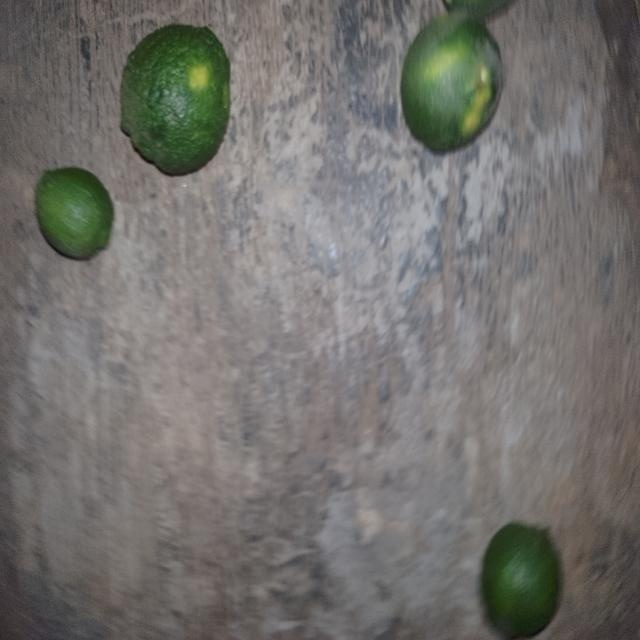agrume: (114, 12, 249, 191), (400, 6, 522, 162), (477, 508, 574, 640), (29, 160, 125, 289)
